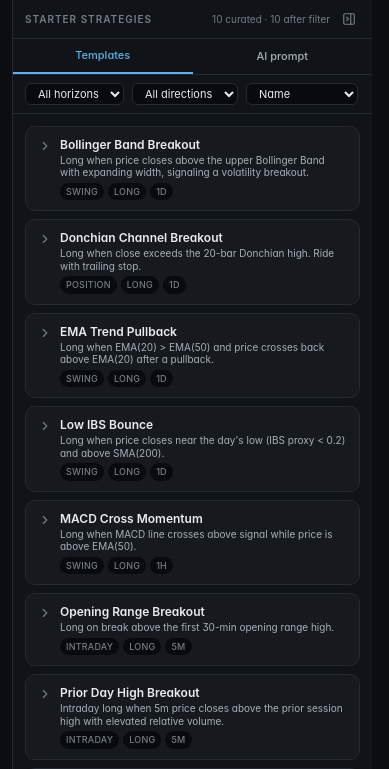
Test case: <StarterStrategyPanel /> › clicking Templates tab after AI shows templates again
The image size is (389, 769).
Click the tab with test id "tab-ai".
click(282, 56)  # box 192,39 -> 372,74
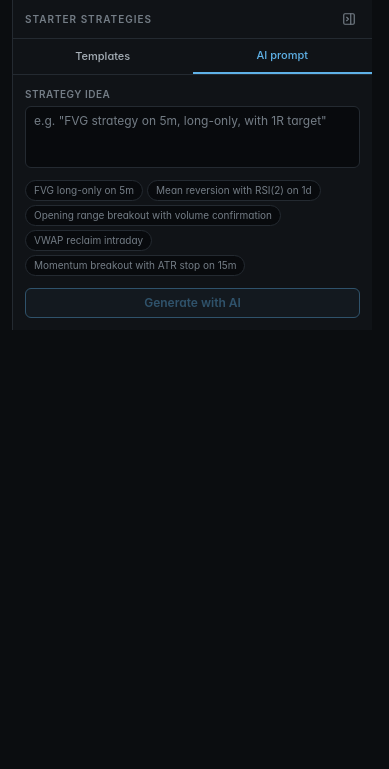
Click the tab with test id "tab-templates".
click(103, 56)  # box 13,39 -> 192,74
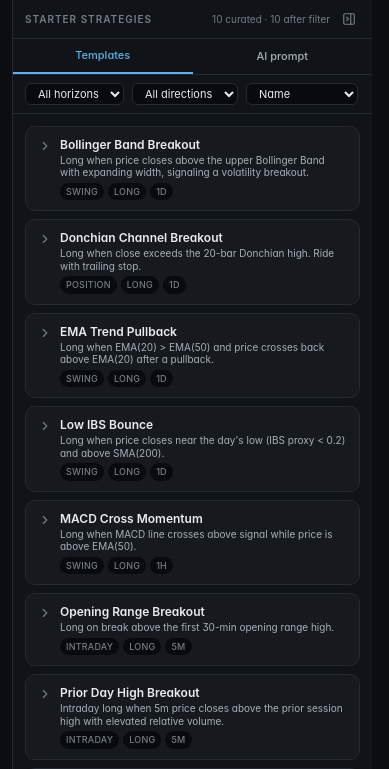
Expected: the element with test id "starter-card" that starts with "Bollinger Band Breakout" is shown, 25,126 -> 360,211
